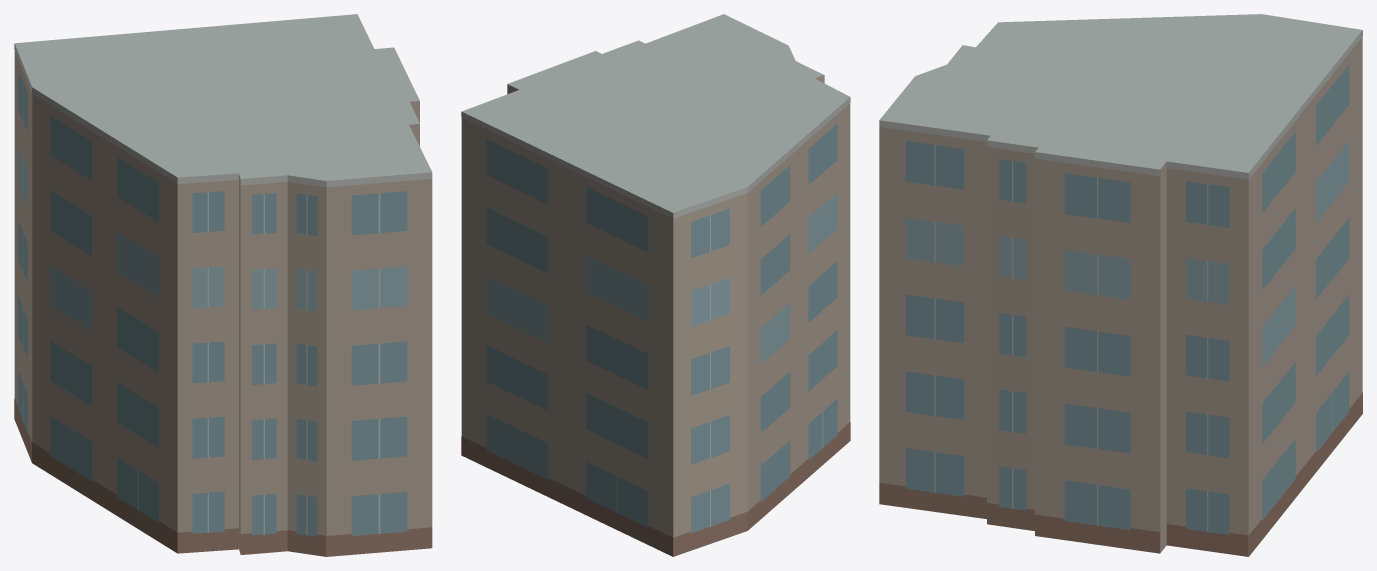
Rendered from survey-upis-32492726.glb.
3 renders of one model, left to right at view 1: azimuth 30°, elevation 25°; view 2: azimuth 150°, elevation 25°; view 3: azimuth 270°, elevation 25°, orthographic. The views are drawn at different scales.
Visible parts, largest first — view 1: survey-upis-32492726.tmp; view 2: survey-upis-32492726.tmp; view 3: survey-upis-32492726.tmp.
Boxes of the visible parts, x1=… form: survey-upis-32492726.tmp: x1=14, y1=14, x2=432, y2=556; survey-upis-32492726.tmp: x1=461, y1=14, x2=850, y2=556; survey-upis-32492726.tmp: x1=879, y1=14, x2=1362, y2=556.
Bounding box in the file's own units: 12.62 × 14.2 × 16.22.
